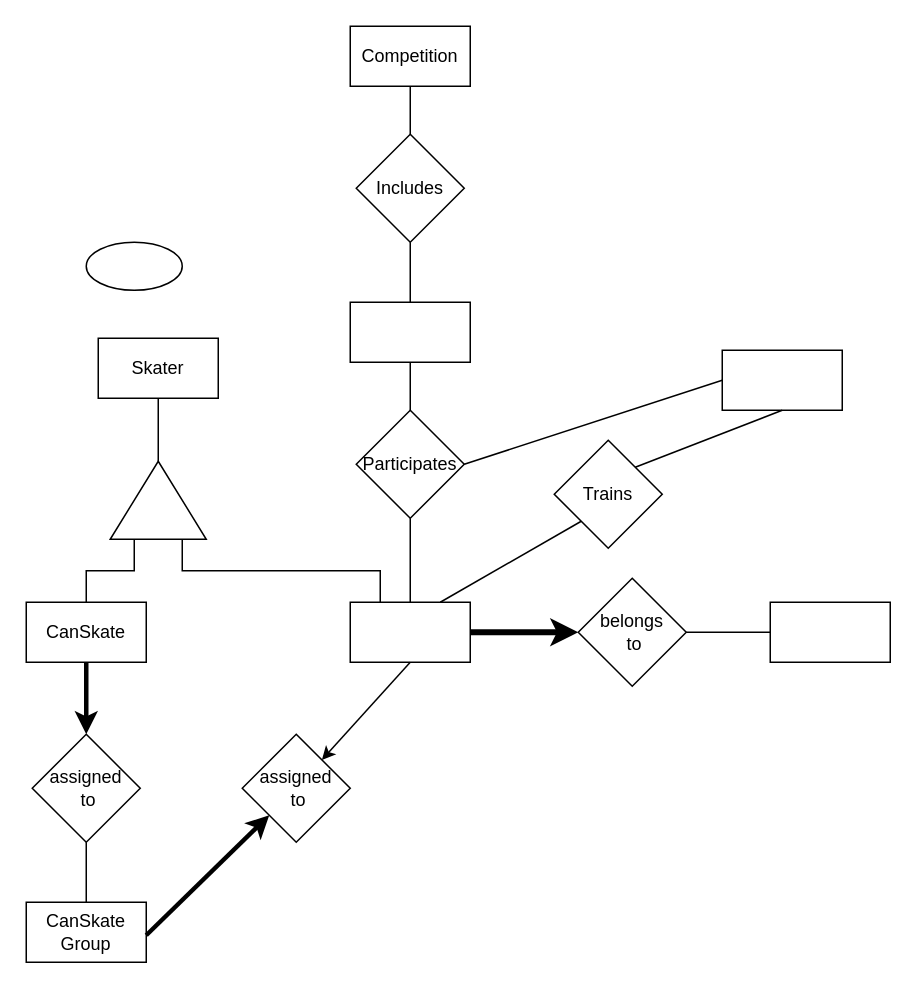
The diagram is 917 pixels wide and 989 high, and some of its shapes have lost their labels. The shapes that lost their labels are listed below. From the top down, each one's box as (x1, y1, x2, y2) in pixels, then its label:
(85, 241, 182, 290): SkaterID
(349, 301, 470, 362): Event
(721, 349, 842, 410): Trainer
(349, 601, 470, 662): StarSkate
(769, 601, 890, 662): Category
